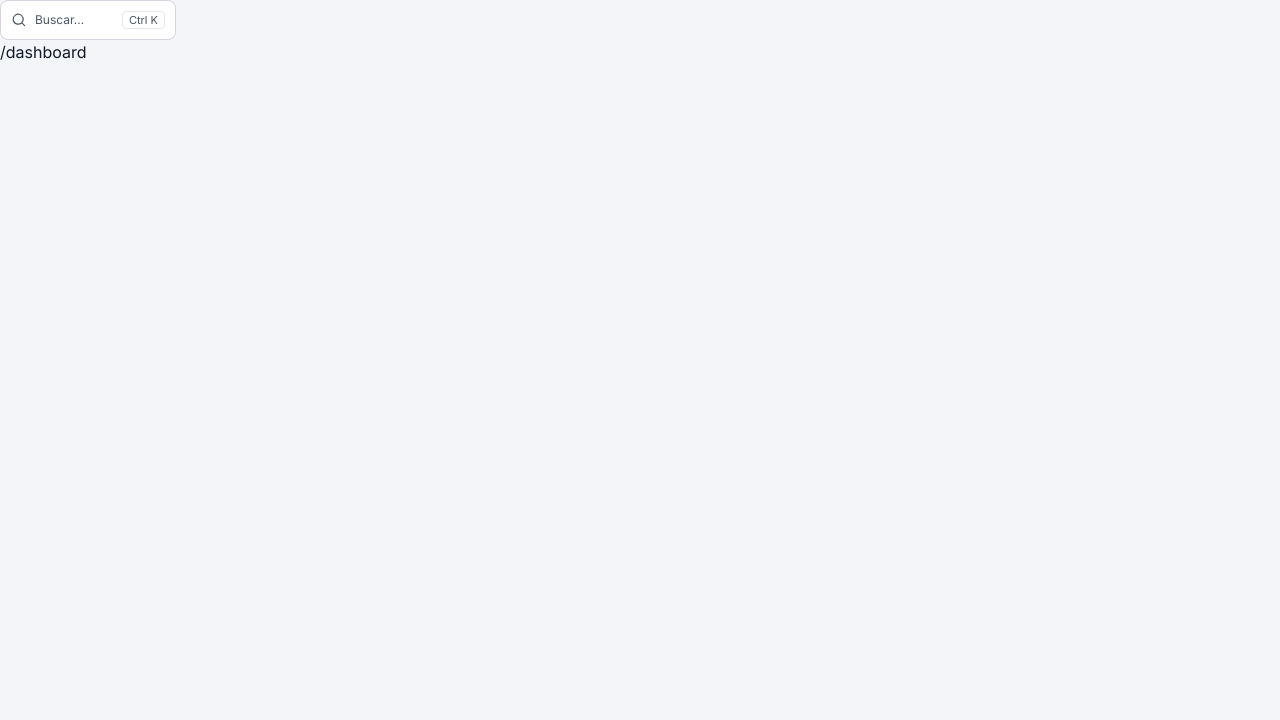
Test case: command palette (Ctrl+K) › opens with Ctrl+K, finds a machine by an accent-less query and navigates with Enter
Press k
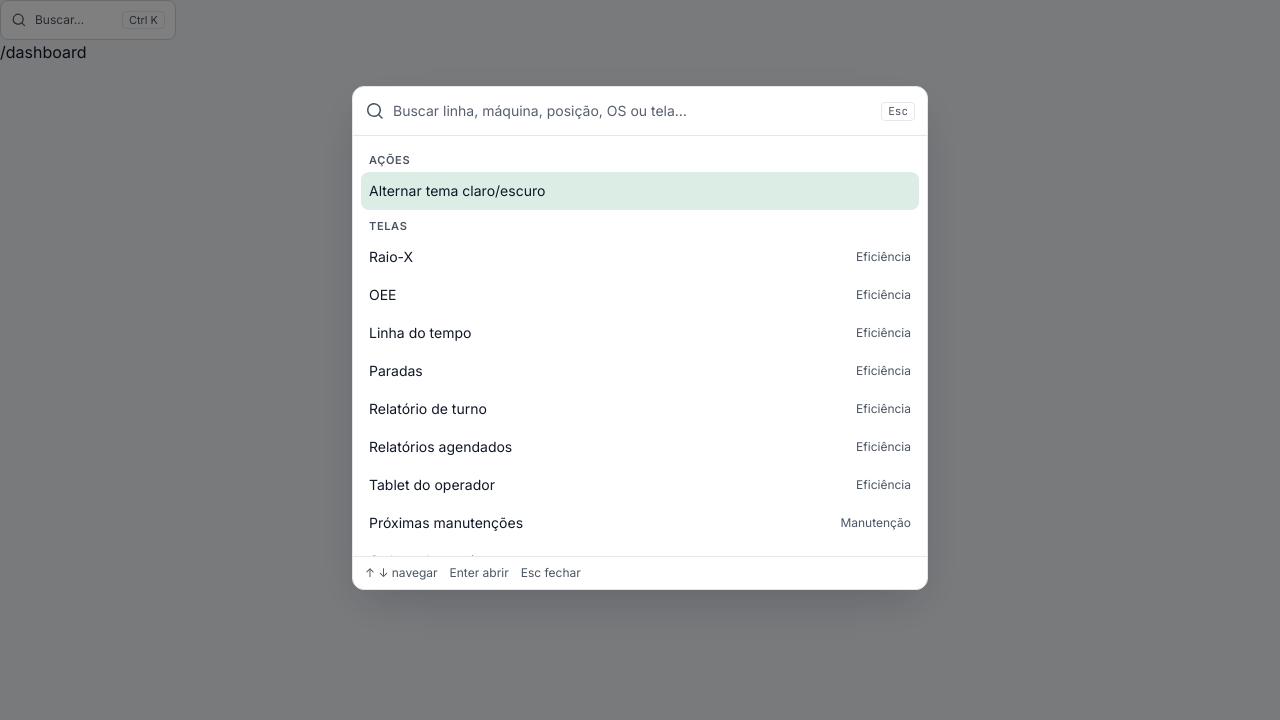
Type "torno" into the dropdown.
click(633, 111); type("torno")  # box [393,87,873,135]
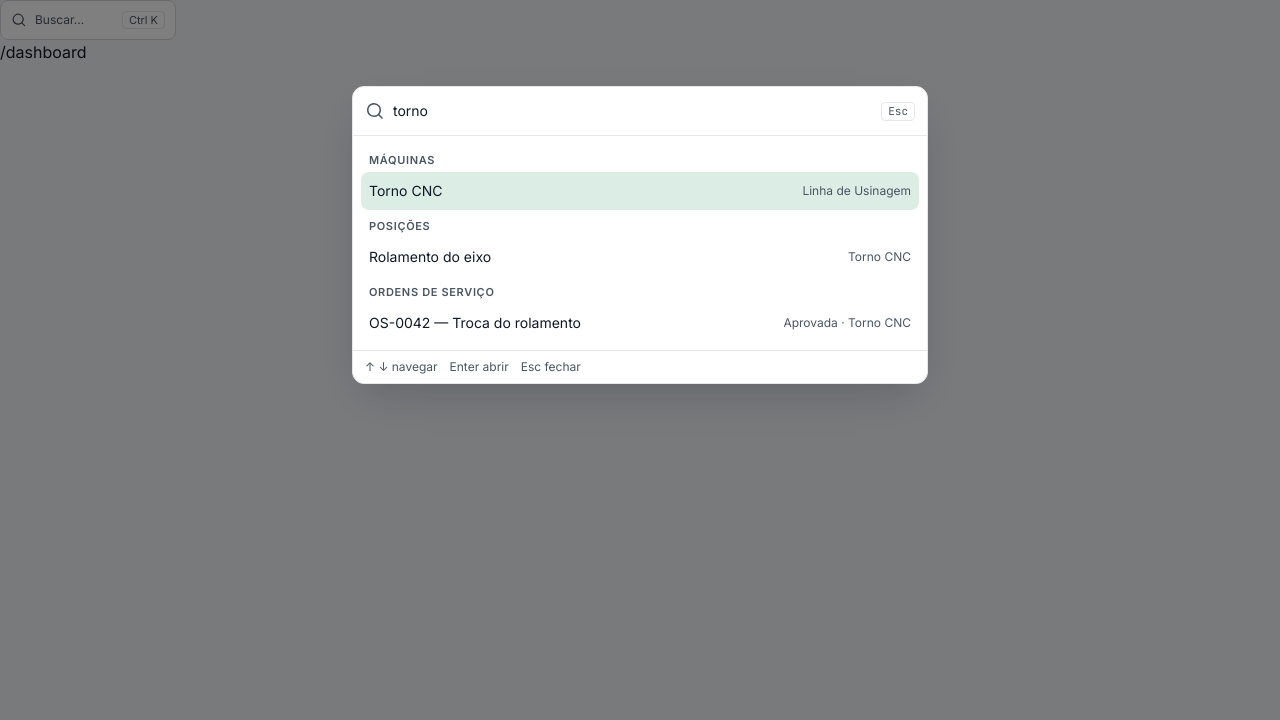
Press Enter
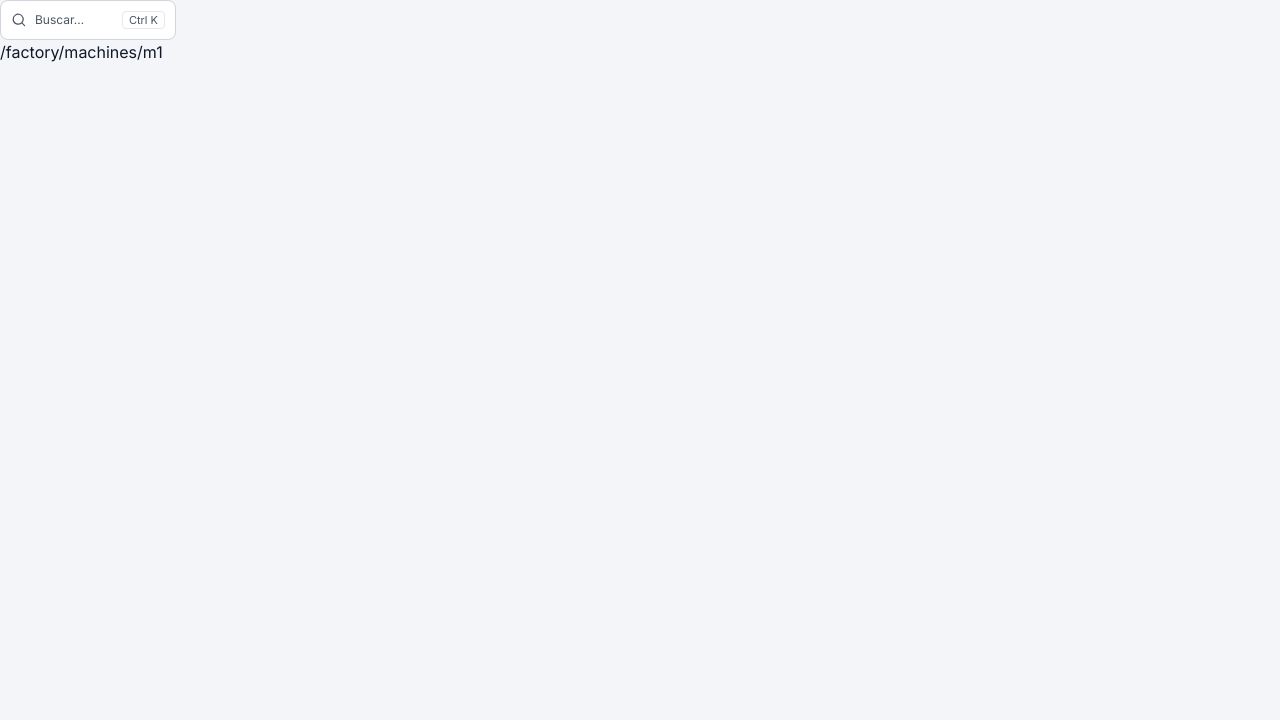
Now the text with test id "where" reads "/factory/machines/m1", box [0,42,163,62]
Now the dialog is gone
